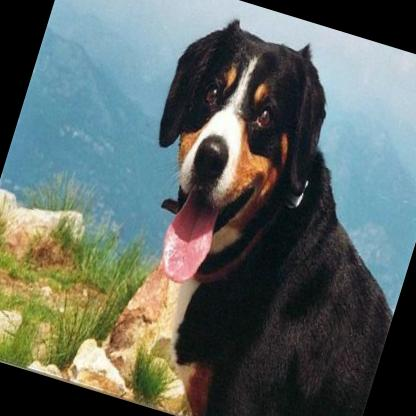EntleBucher: (75, 3, 416, 416)
